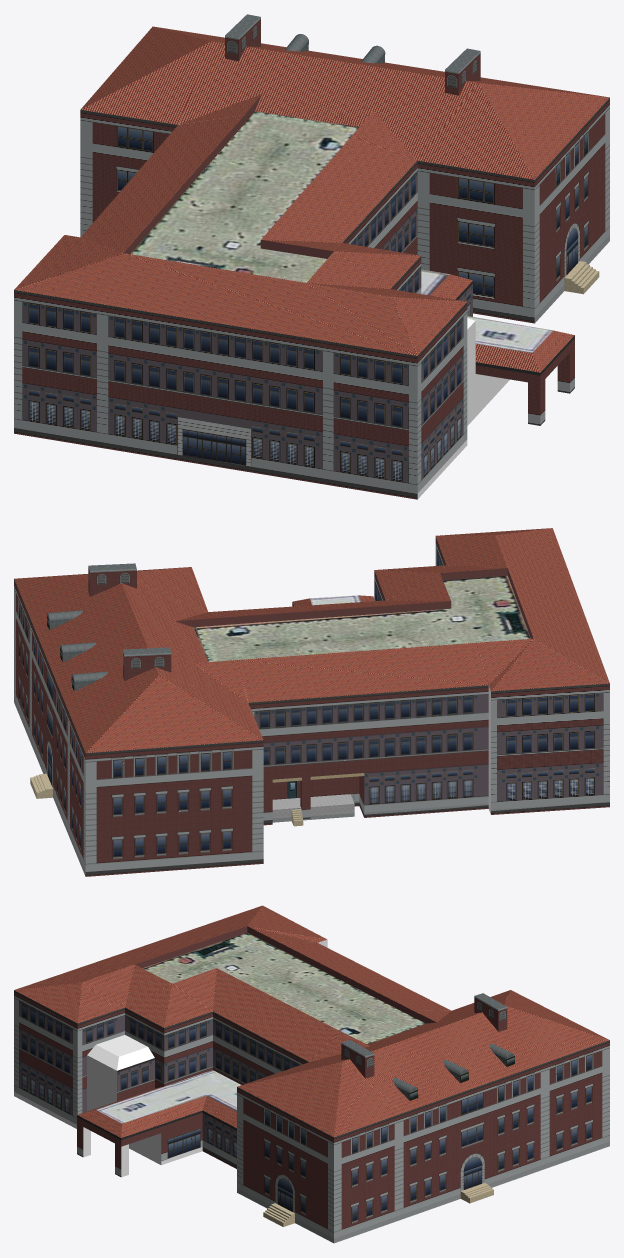
File: schl.fbx
3 views of the same model, one above another, from view 1: azimuth 30°, elevation 25°; view 2: azimuth 150°, elevation 25°; view 3: azimuth 270°, elevation 25° (orthographic). The views are drawn at different scales.
Visible parts, largest first — view 1: Model, roofstuff2_1, roofstuff2_2, pillar1, pillar2; view 2: Model, roofstuff2_1, roofstuff2_2; view 3: Model, roofstuff2_1, roofstuff2_2.
Part boxes in pixels (box(x1,y1,x2,y2)): Model: box(14, 26, 609, 499); roofstuff2_1: box(445, 48, 480, 95); roofstuff2_2: box(225, 14, 260, 61); pillar1: box(528, 379, 545, 425); pillar2: box(557, 347, 574, 393); Model: box(14, 528, 609, 876); roofstuff2_1: box(88, 563, 136, 596); roofstuff2_2: box(123, 647, 171, 680); Model: box(14, 905, 609, 1243); roofstuff2_1: box(341, 1040, 374, 1078); roofstuff2_2: box(474, 993, 507, 1031).
Bounding box in the file's own units: 2683 × 799 × 2913.
